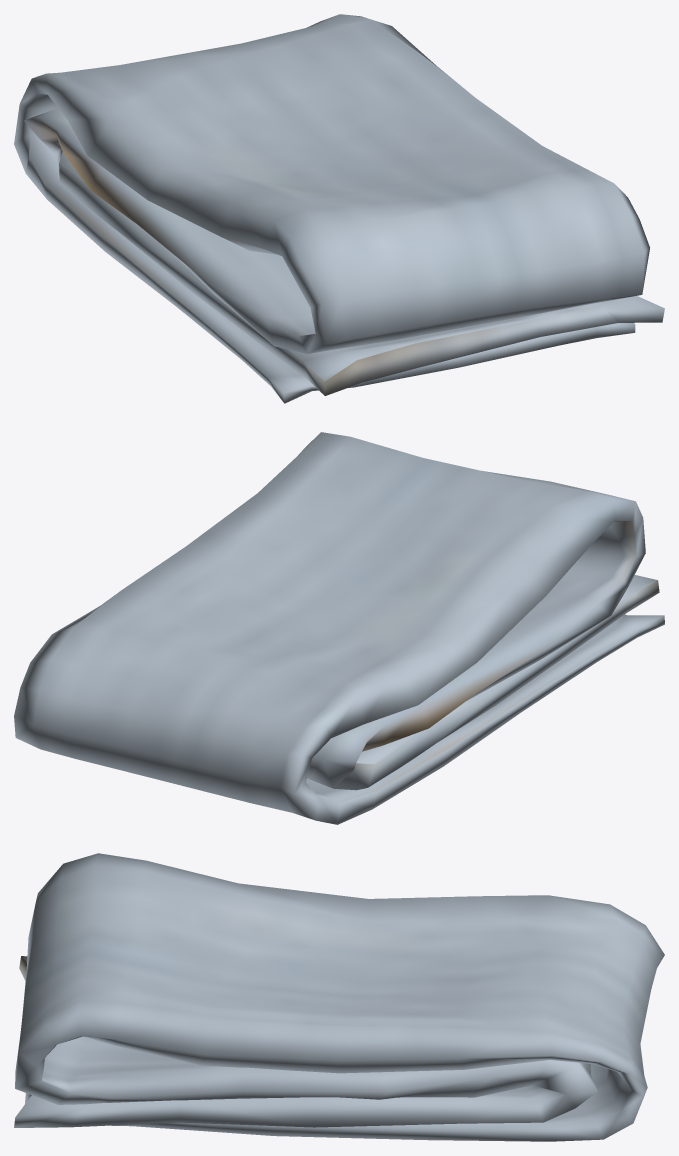
File: To_TowelTable.FBX
3 renders of one model, top to bottom at view 1: azimuth 30°, elevation 25°; view 2: azimuth 150°, elevation 25°; view 3: azimuth 270°, elevation 25°, orthographic. The views are drawn at different scales.
Parts seen in each view (by area): view 1: To_TowelTable; view 2: To_TowelTable; view 3: To_TowelTable.
Boxes of the visible parts, x1,y1,x2,y2 form: To_TowelTable: [14, 14, 664, 403]; To_TowelTable: [14, 432, 664, 824]; To_TowelTable: [14, 853, 664, 1141].
Bounding box in the file's own units: 19.56 × 7.33 × 31.39.
